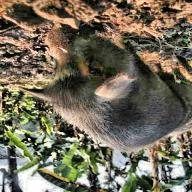boar: (32, 29, 192, 143)
